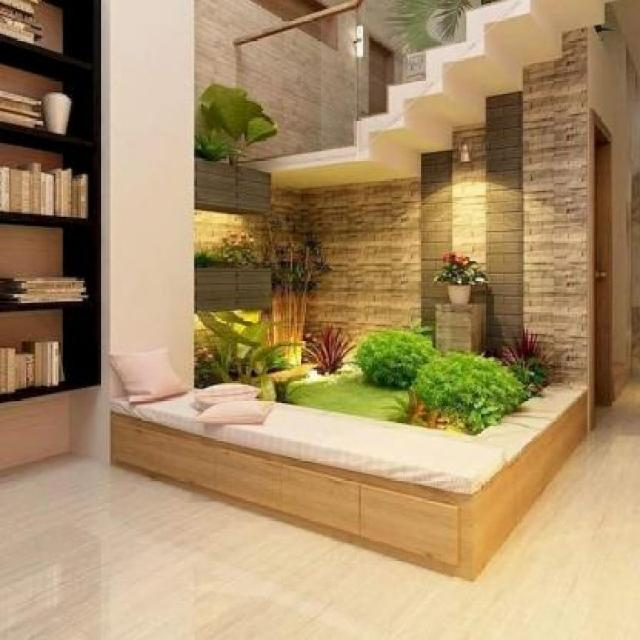floor: (0, 379, 640, 640)
